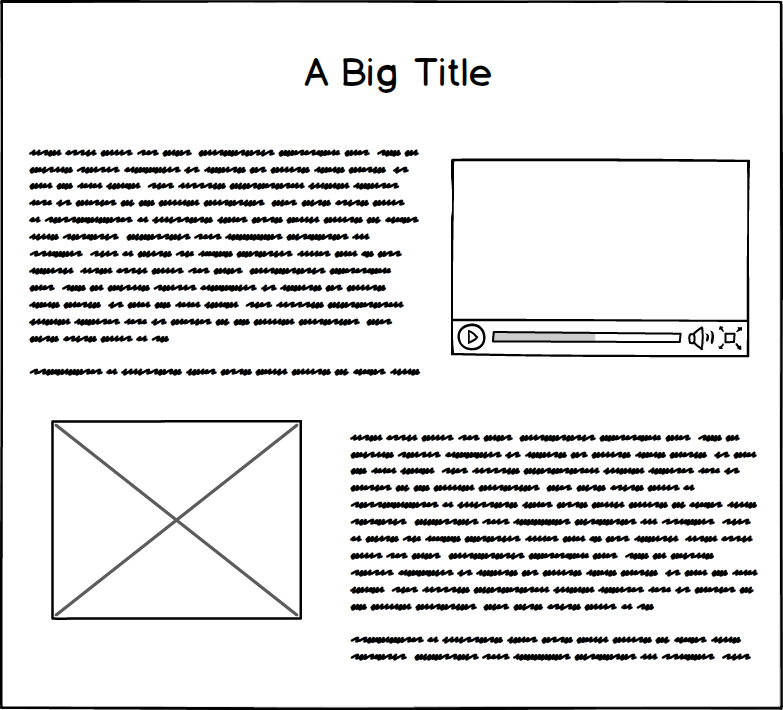h1: (294, 46, 498, 101)
image: (41, 414, 309, 626)
p: (347, 429, 764, 667), (21, 142, 432, 381)
video: (442, 153, 761, 365)
